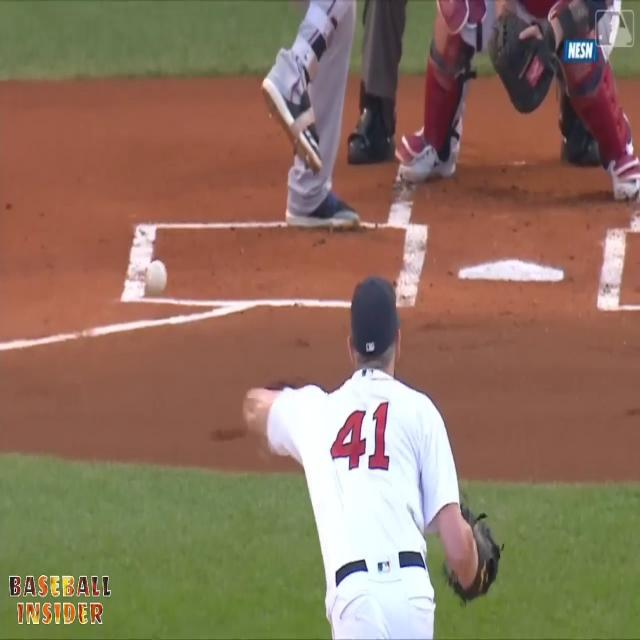baseball: (147, 260, 167, 292)
